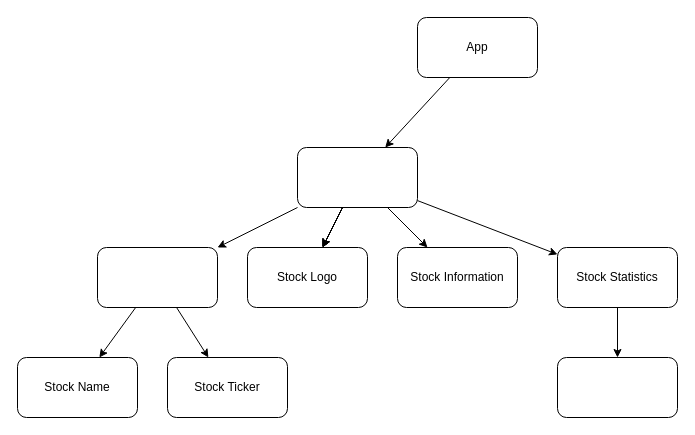
Image size: 695x435. Some labels were removed from this diagram. The box of each missing label's shape, as (x1, y1, x2, y2) in pixels:
Statistics line: (556, 356, 678, 418)
Stock Trump Card: (296, 146, 418, 208)
Title: (96, 246, 218, 308)
